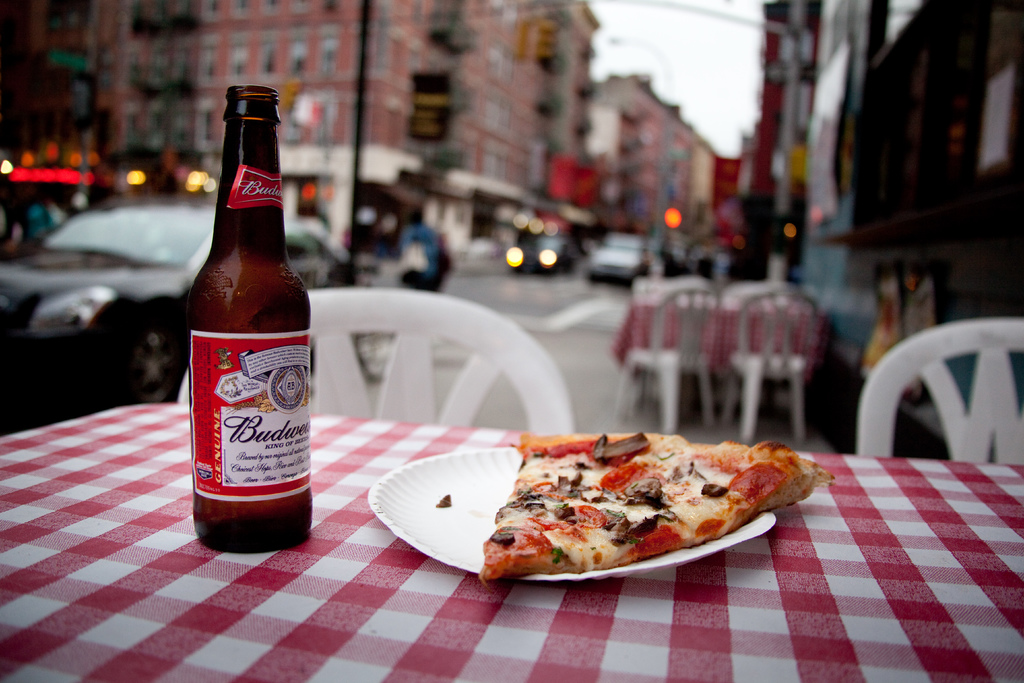Pizza: (473, 422, 837, 584)
